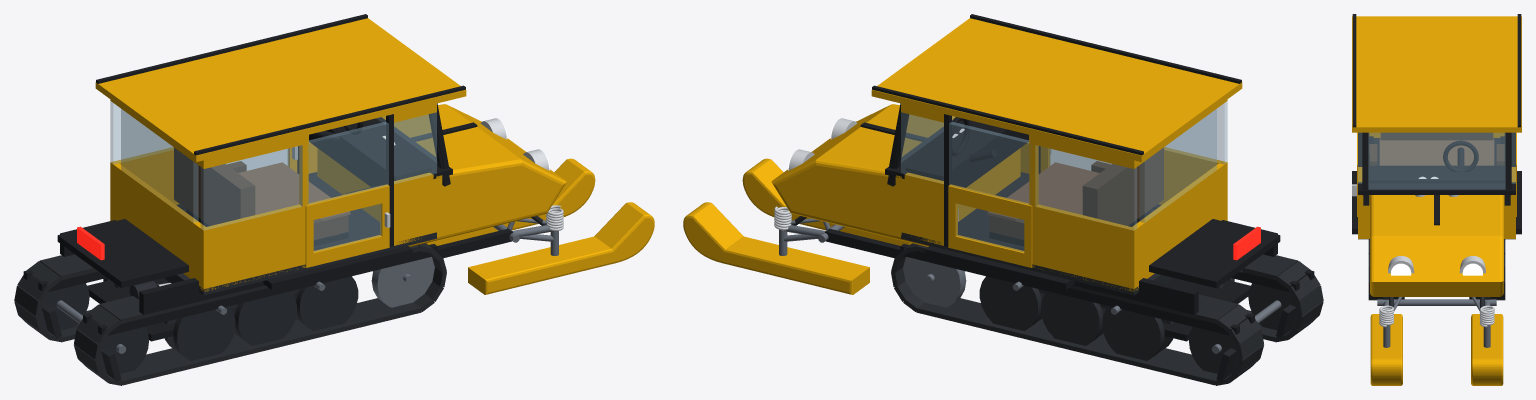
The picture shows the model from 3 angles, left to right: view 1: azimuth 30°, elevation 25°; view 2: azimuth 150°, elevation 25°; view 3: azimuth 270°, elevation 25°; orthographic projection. The views are drawn at different scales.
Visible parts, largest first — view 1: body (×29), snow_track_wheel (×6), door_front_right (×4), snow_ski (×2), door_front_left; view 2: body (×29), snow_track_wheel (×6), door_front_left (×4), snow_ski (×2), door_front_right; view 3: body (×32), snow_ski (×2), headlamp_lens (×2).
Part boxes in pixels (x1,y1,x2,y2): body (×29): (57, 14, 566, 341); snow_track_wheel (×6): (40, 257, 434, 373); door_front_right (×4): (305, 122, 389, 267); snow_ski (×2): (426, 158, 654, 294); door_front_left: (227, 149, 288, 170); body (×29): (771, 14, 1280, 341); snow_track_wheel (×6): (903, 257, 1297, 373); door_front_left (×4): (948, 122, 1032, 267); snow_ski (×2): (683, 158, 911, 294); door_front_right: (1049, 149, 1110, 170); body (×32): (1352, 14, 1521, 347); snow_ski (×2): (1370, 314, 1503, 385); headlamp_lens (×2): (1391, 263, 1482, 275).
Size of the model in its own units: 6.18 by 2.37 by 1.92.
